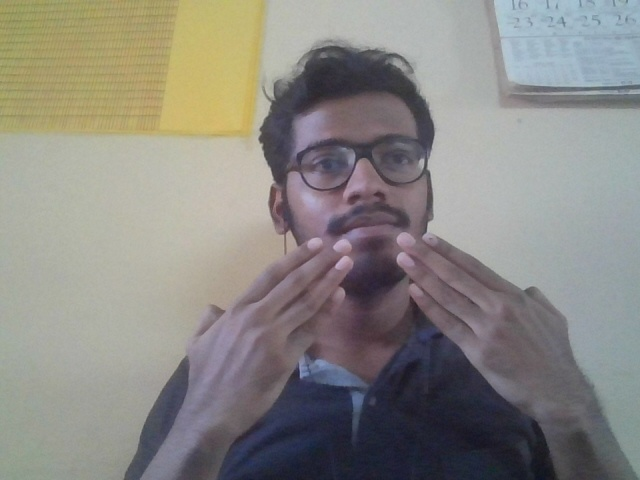ThankYou: (184, 231, 597, 424)
